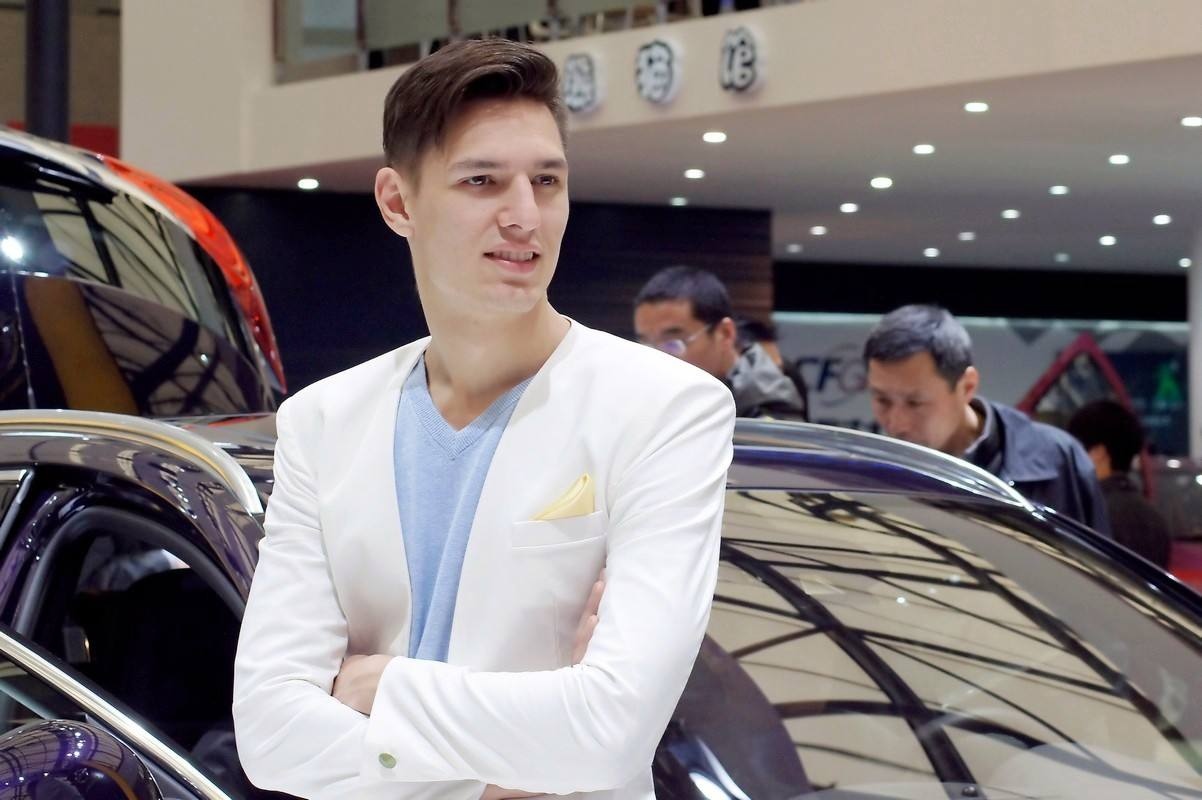person: (293, 60, 690, 800)
